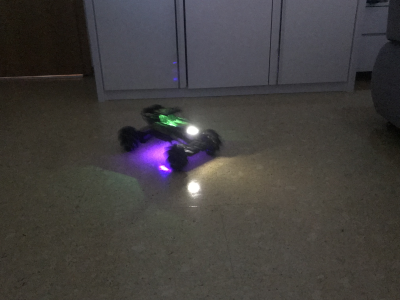remote control car: (115, 103, 225, 172)
